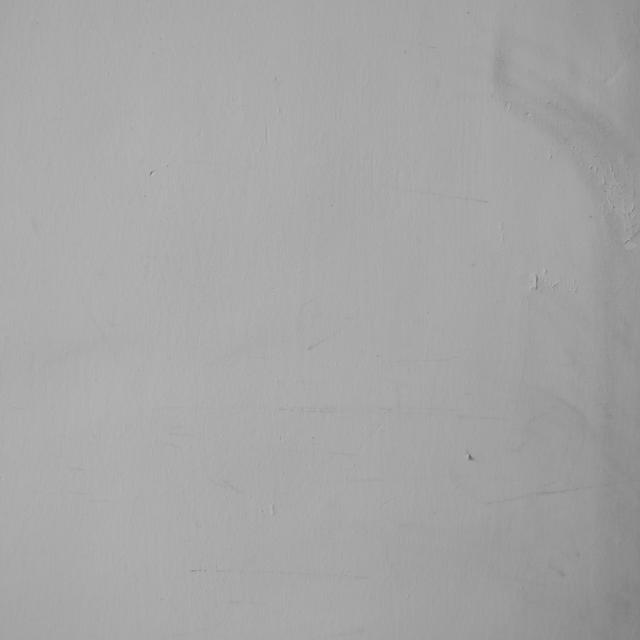rough and patchy surface: (491, 76, 640, 256), (522, 256, 585, 321), (209, 406, 315, 442), (272, 315, 355, 355), (448, 438, 479, 467), (256, 500, 284, 522)
